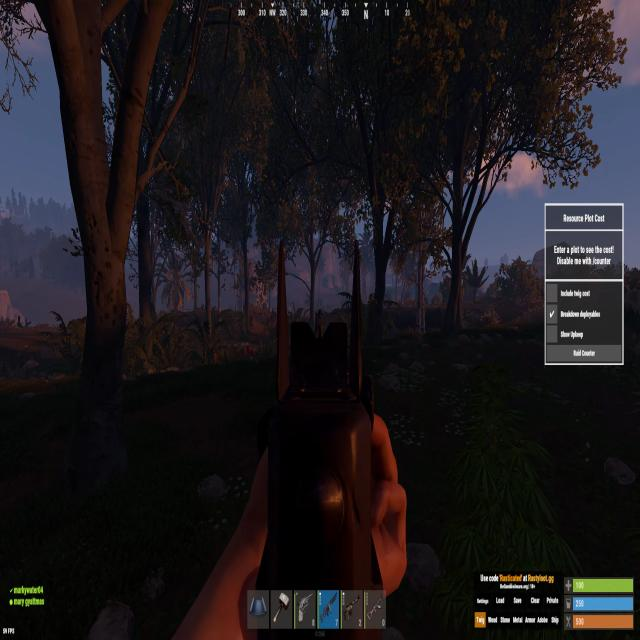Player: (315, 308, 324, 335)
